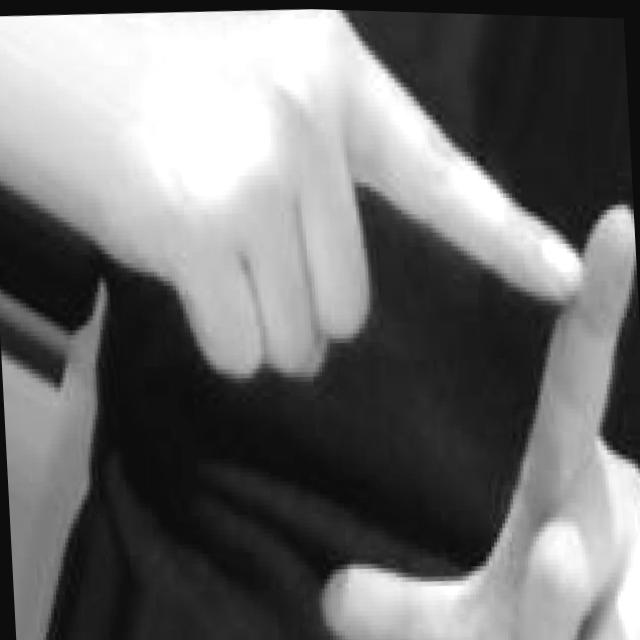J: (149, 4, 640, 640)
